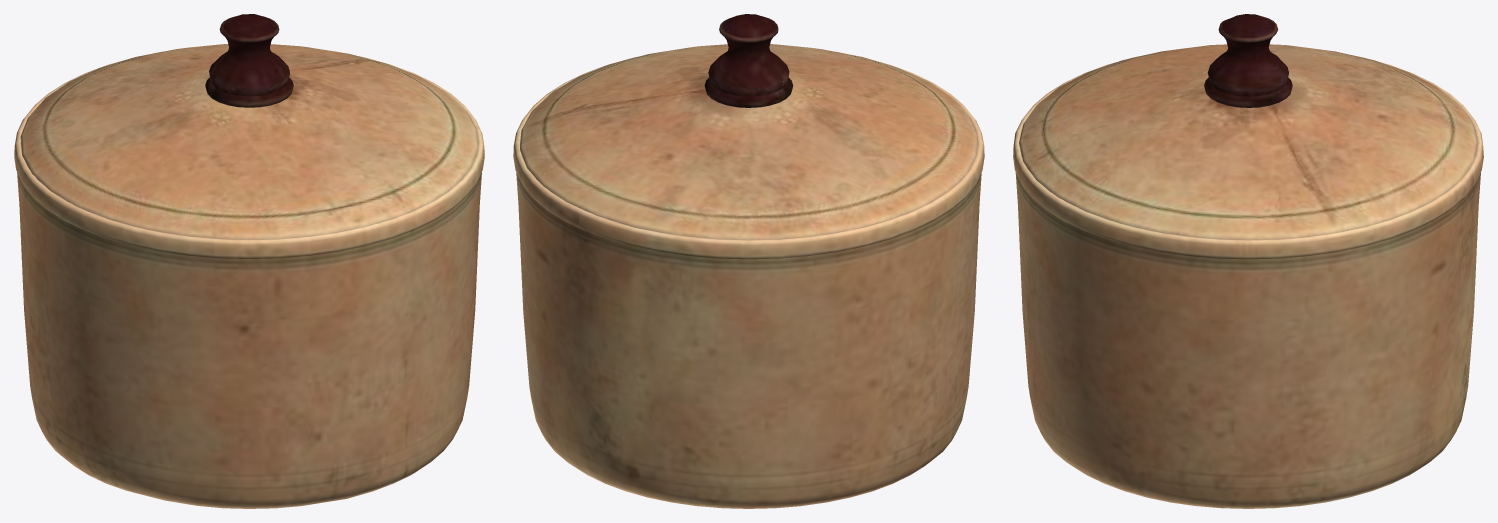
File: brass_pot_01.glb
The picture shows the model from 3 angles, left to right: view 1: azimuth 30°, elevation 25°; view 2: azimuth 150°, elevation 25°; view 3: azimuth 270°, elevation 25°; orthographic projection.
Parts seen in each view (by area): view 1: brass_pot_01; view 2: brass_pot_01; view 3: brass_pot_01.
Part boxes in pixels (x1=…): brass_pot_01: x1=14, y1=14, x2=484, y2=508; brass_pot_01: x1=513, y1=14, x2=984, y2=508; brass_pot_01: x1=1013, y1=14, x2=1483, y2=508.
Size of the model in its own units: 0.3019 by 0.2909 by 0.3017.
Materials: 1 (1 with a texture image).
